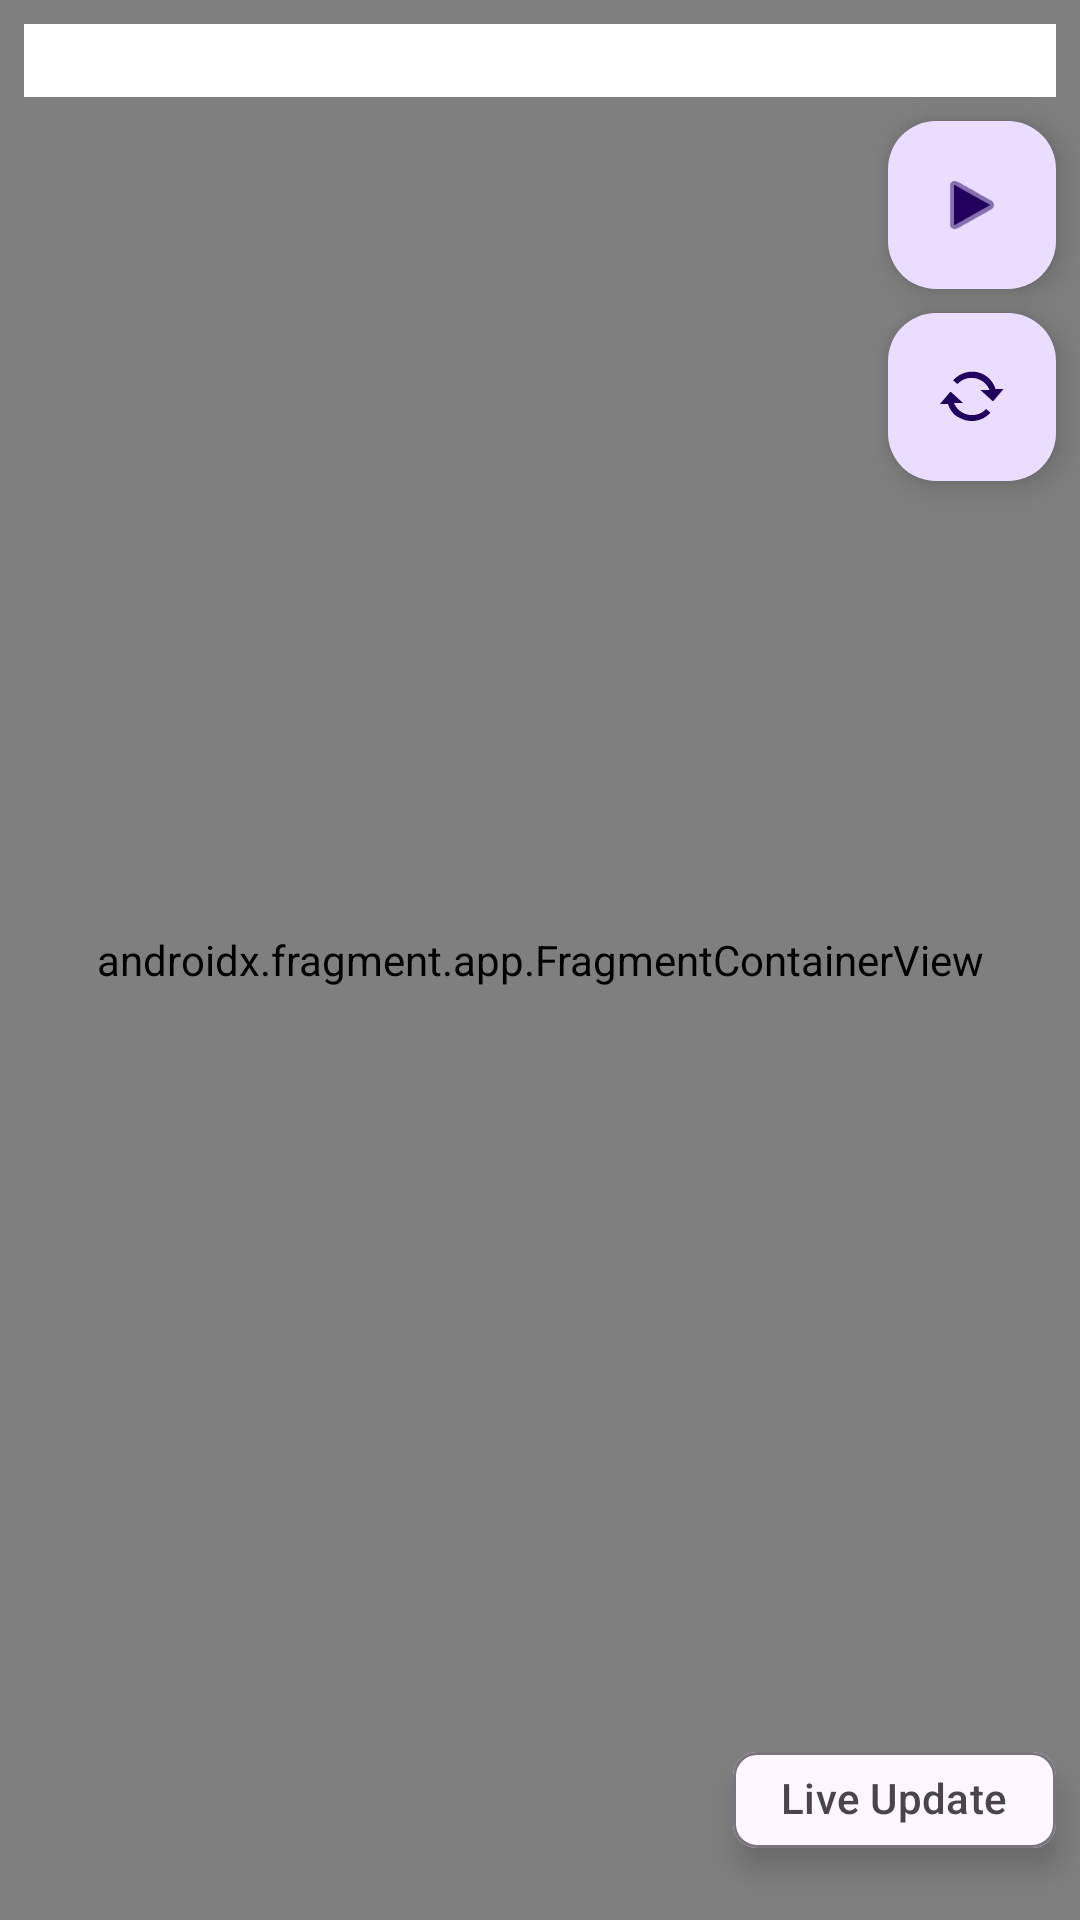

Named icons in this screenshot (1080px×1920px) and their bounding boxes, (x1, y1, x2, y2):
play: (888, 121, 1056, 289)
sync: (888, 313, 1056, 481)
